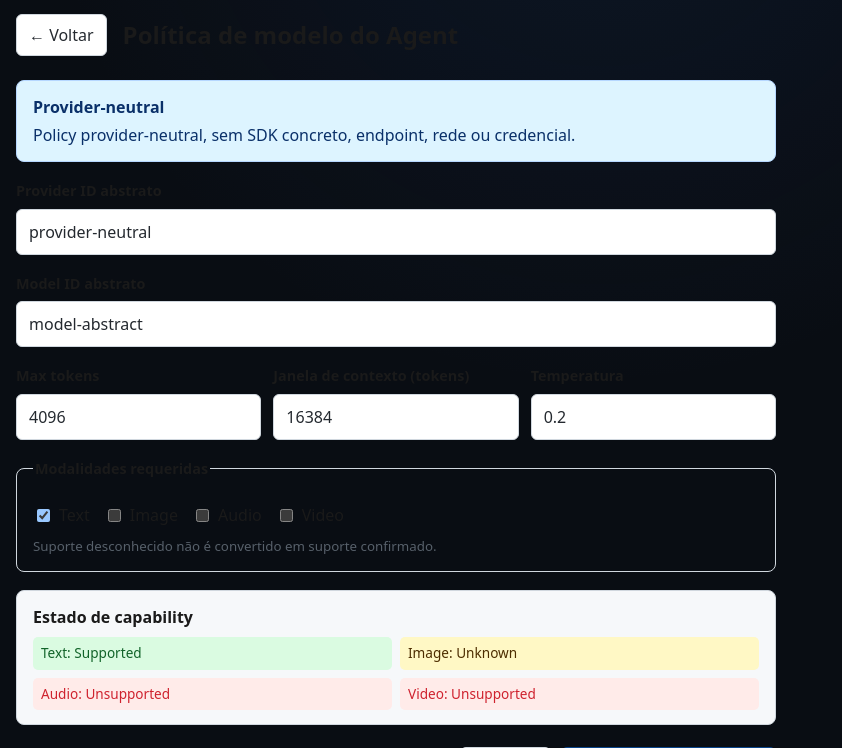
Test case: ModelPolicyPage › requires at least one modality and rejects unsupported duplicate state
Expected: the field showing "provider-neutral" is shown, [16,209,776,255]
Step 1. Click the checkbox named "Modalidade text" → (44, 515), box [37,509,50,522]
(page scrolled)
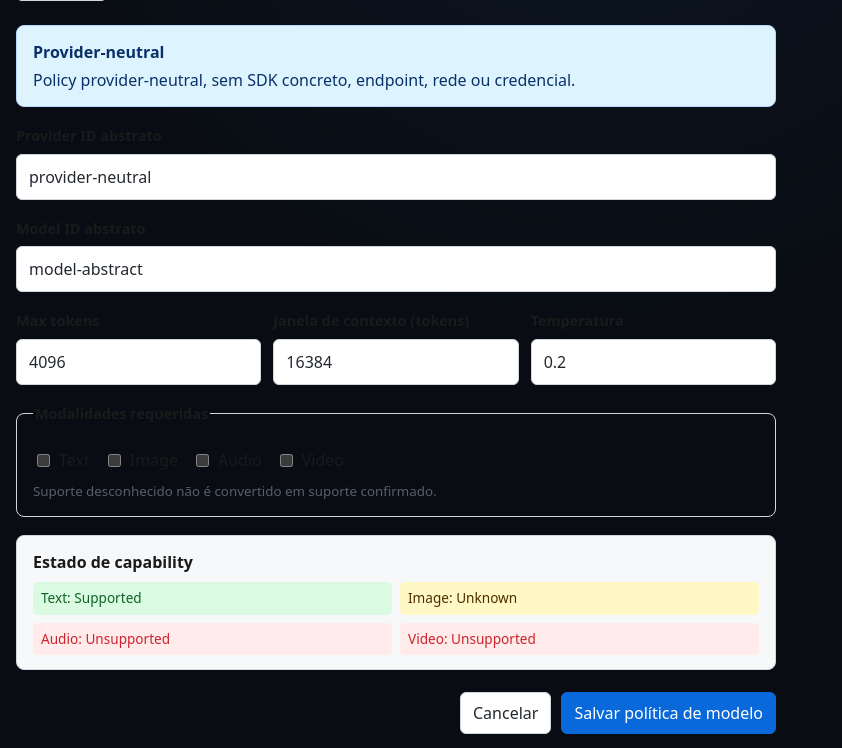
Step 2. Click the button "Salvar política de modelo" → (669, 713), box [561,692,776,734]
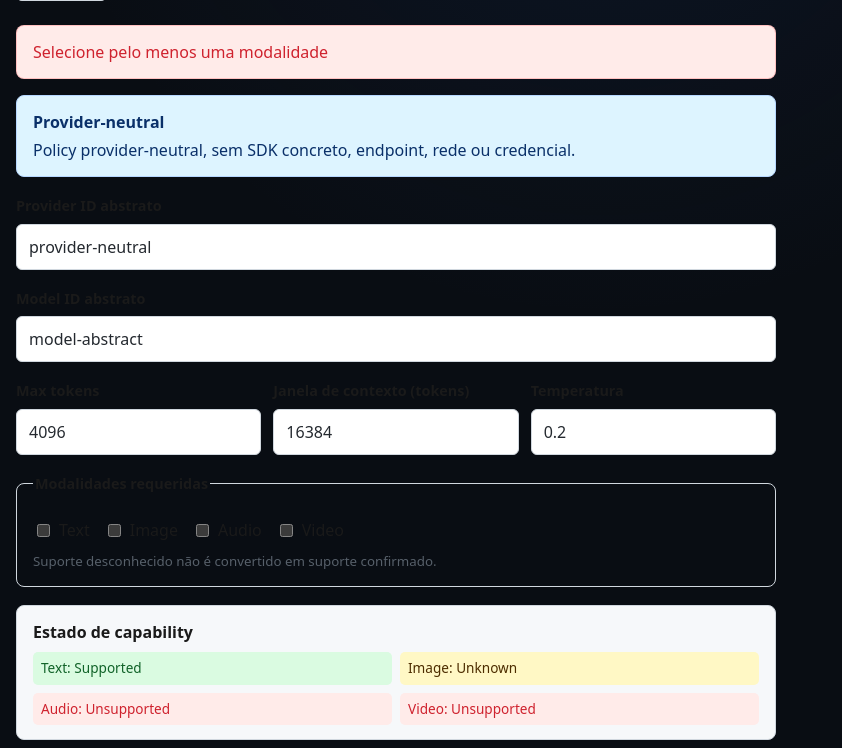
Expected: the message shows "modalidade", [33,41,328,63]
